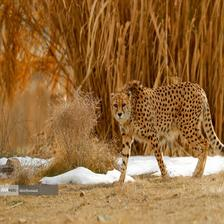Cheetah: (110, 80, 224, 187)
